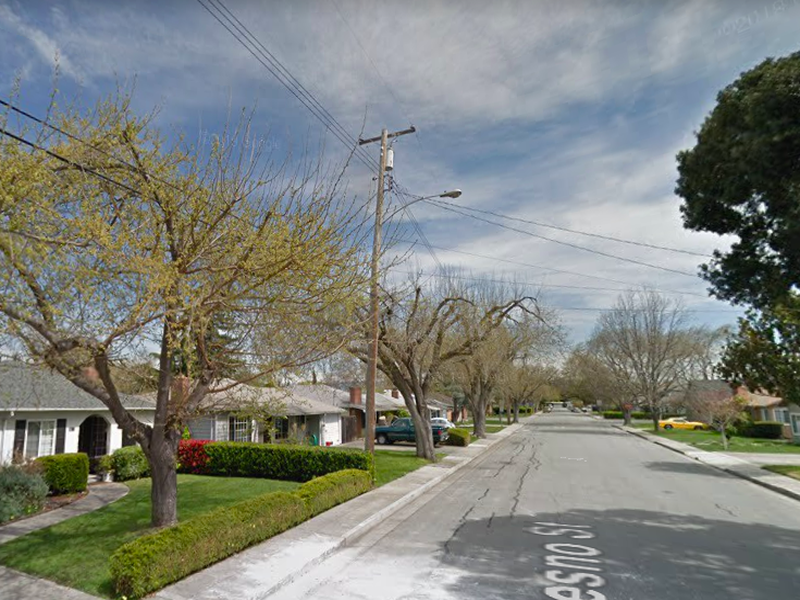tree: (1, 96, 426, 527)
utility_pole: (351, 119, 419, 197)
